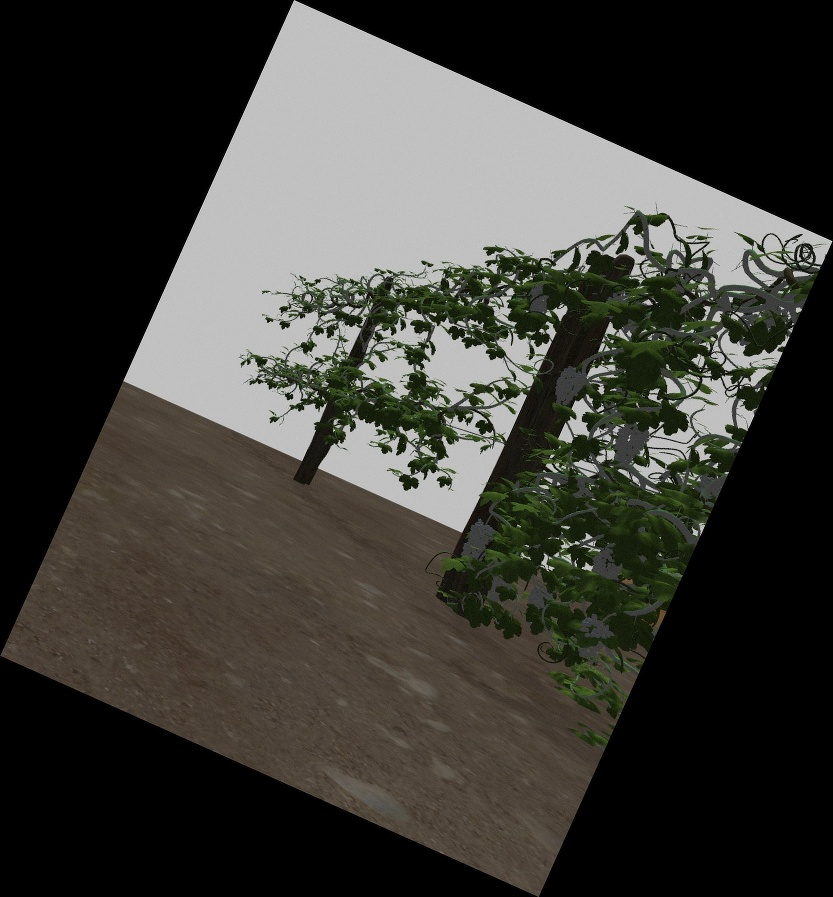grape: (613, 422, 645, 467), (557, 367, 583, 406), (592, 549, 623, 578), (465, 522, 488, 561), (582, 616, 613, 641), (529, 585, 550, 610)
